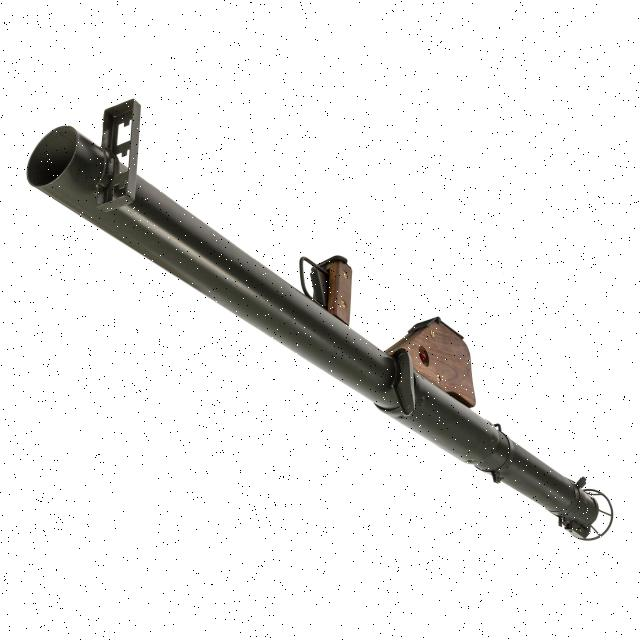bazooka: (16, 90, 624, 550)
